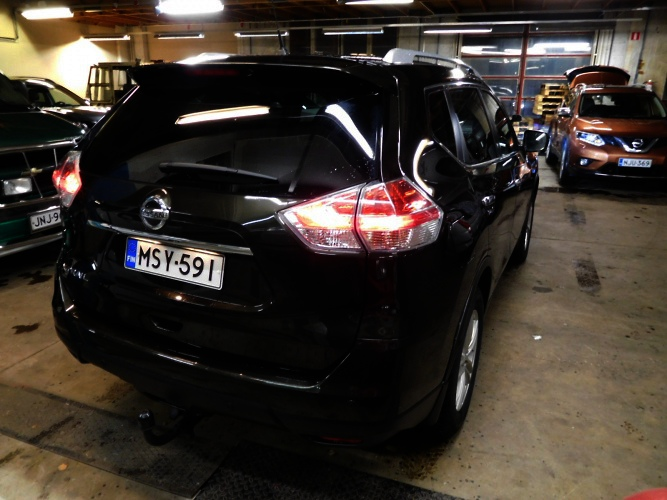license: (123, 240, 223, 294)
